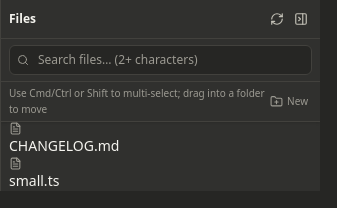
Test: FileBrowser single-click selection › clears the selection when the selected row is clicked again
The width and height of the screenshot is (337, 208).
Click the element showing "CHANGELOG.md" at (64, 138), box [9,122,119,155]
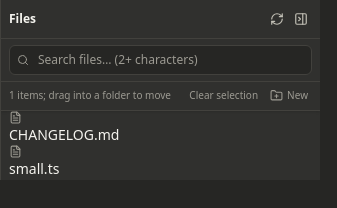
Now the text "1 items; drag into a folder to move" is shown, box [9,88,171,104]
Click the element showing "CHANGELOG.md" at (64, 127), box [9,110,119,144]
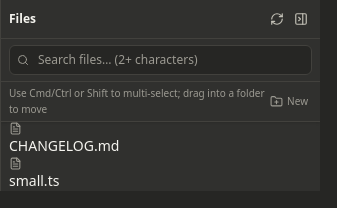
Now the text "Use Cmd/Ctrl or Shift to multi-select; drag into a folder to move" is shown, box [9,86,266,117]
